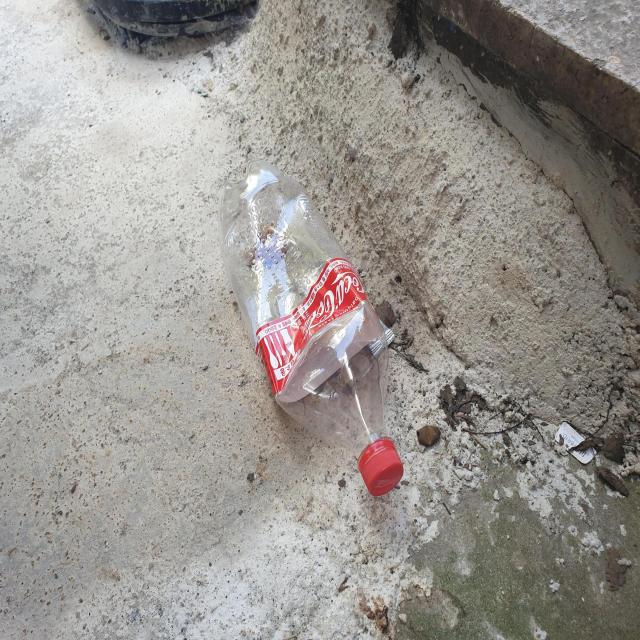plastic: (219, 160, 404, 496)
